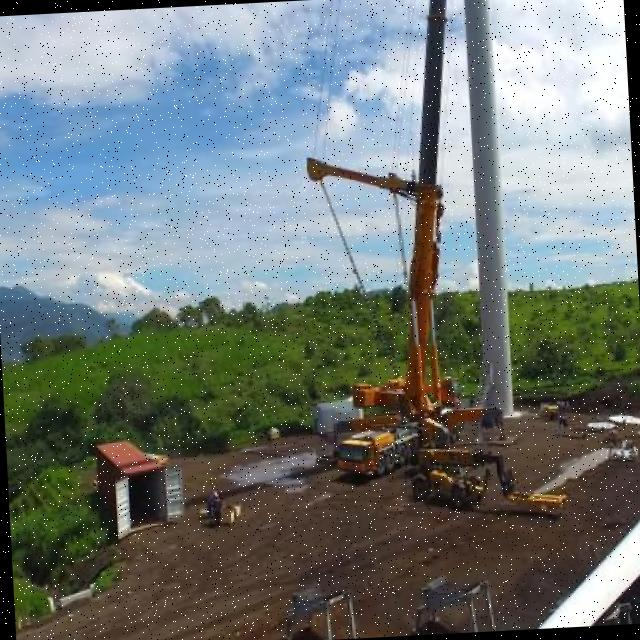Mobile Crane: (295, 0, 515, 482), (412, 446, 512, 511)
